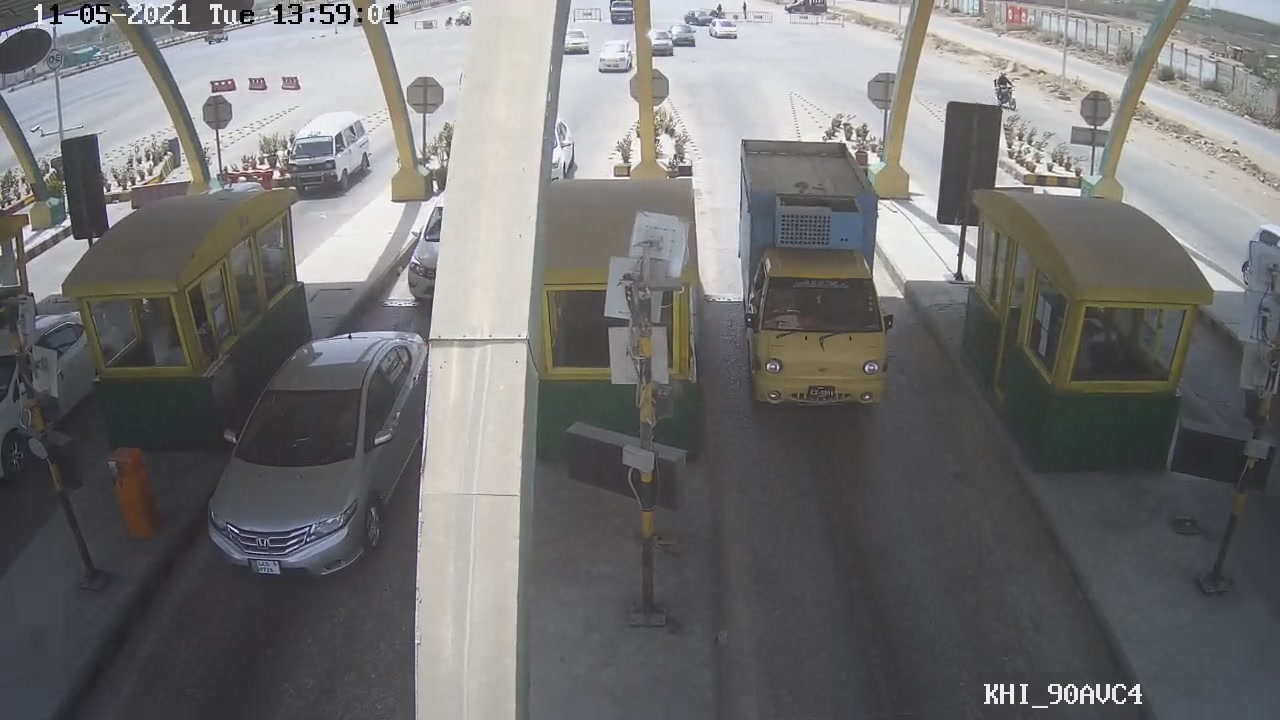F2: (720, 138, 904, 418)
